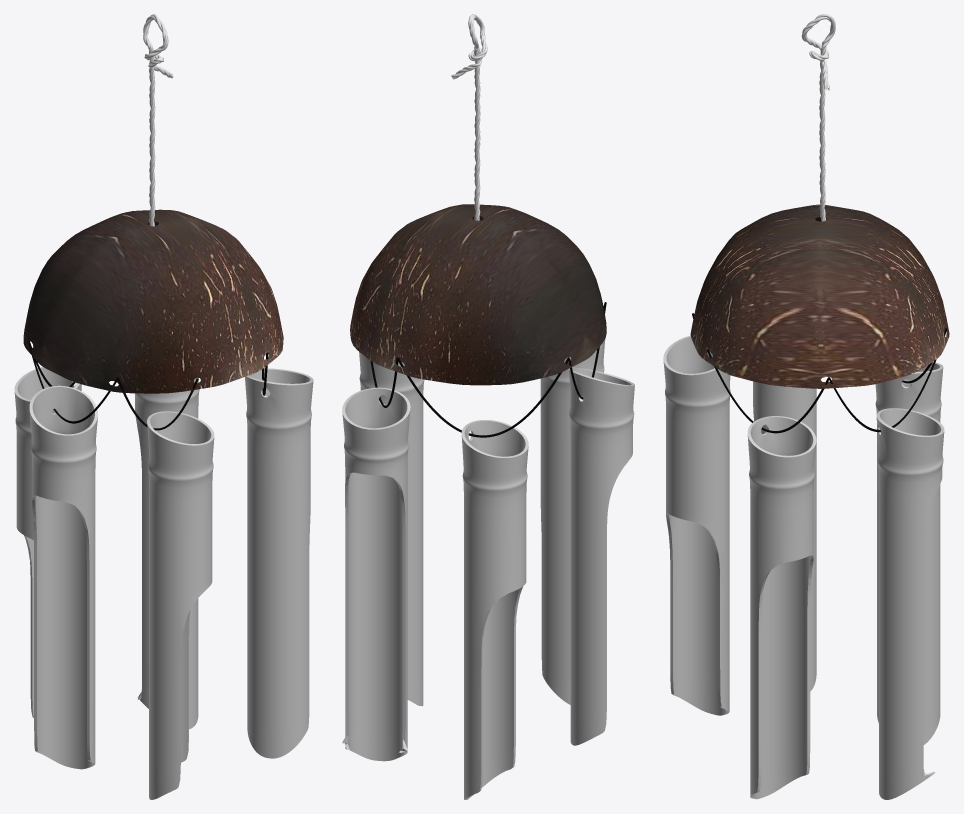
File: bambu angin.fbx
The picture shows the model from 3 angles, left to right: view 1: azimuth 30°, elevation 25°; view 2: azimuth 150°, elevation 25°; view 3: azimuth 270°, elevation 25°; orthographic projection.
Parts seen in each view (by area): view 1: Cube, Cylinder.003, Cylinder, Cylinder.004, Cylinder.002, Cylinder.001, Circle, GeoCables; view 2: Cube, Cylinder.002, Cylinder.001, Cylinder, Cylinder.004, Cylinder.003, Circle, GeoCables; view 3: Cube, Cylinder.003, Cylinder.004, Cylinder.002, Cylinder.001, Cylinder, Circle, GeoCables.
Boxes of the visible parts, box(x1,y1,x2,y2) form: Cube: box(23, 209, 283, 393); Cylinder.003: box(245, 368, 313, 758); Cylinder: box(29, 385, 97, 769); Cylinder.004: box(147, 411, 214, 799); Cylinder.002: box(134, 377, 199, 729); Cylinder.001: box(14, 366, 81, 717); Circle: box(143, 14, 173, 226); GeoCables: box(28, 341, 268, 430); Cube: box(350, 204, 606, 385); Cylinder.002: box(342, 387, 410, 761); Cylinder.001: box(461, 420, 528, 799); Cylinder: box(568, 367, 634, 745); Cylinder.004: box(540, 339, 605, 704); Cylinder.003: box(359, 352, 424, 706); Circle: box(451, 14, 487, 220); GeoCables: box(370, 302, 606, 437); Cube: box(690, 204, 949, 388); Cylinder.003: box(747, 416, 816, 799); Cylinder.004: box(663, 336, 730, 715); Cylinder.002: box(876, 408, 944, 799); Cylinder.001: box(875, 362, 943, 744); Cylinder: box(753, 381, 816, 691); Circle: box(801, 14, 835, 221); GeoCables: box(692, 313, 947, 433).
Bounding box in the file's own units: 991 × 2607 × 896.
Materials: 4 (1 with a texture image).
